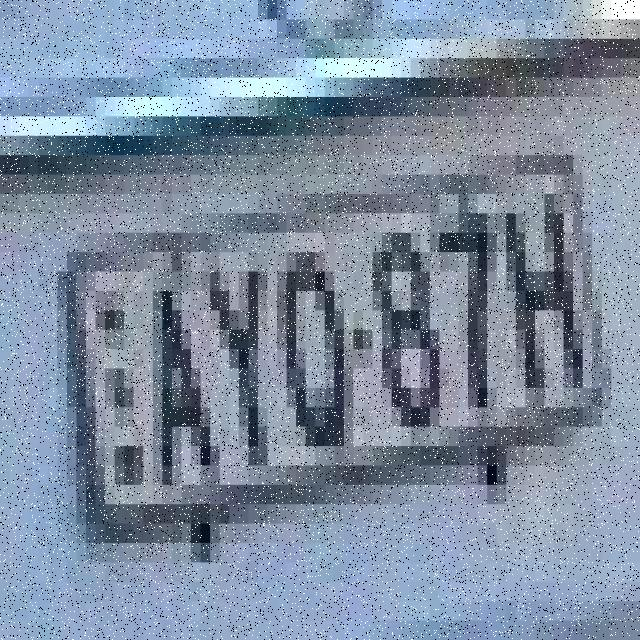licenseplate: (45, 133, 632, 598)
